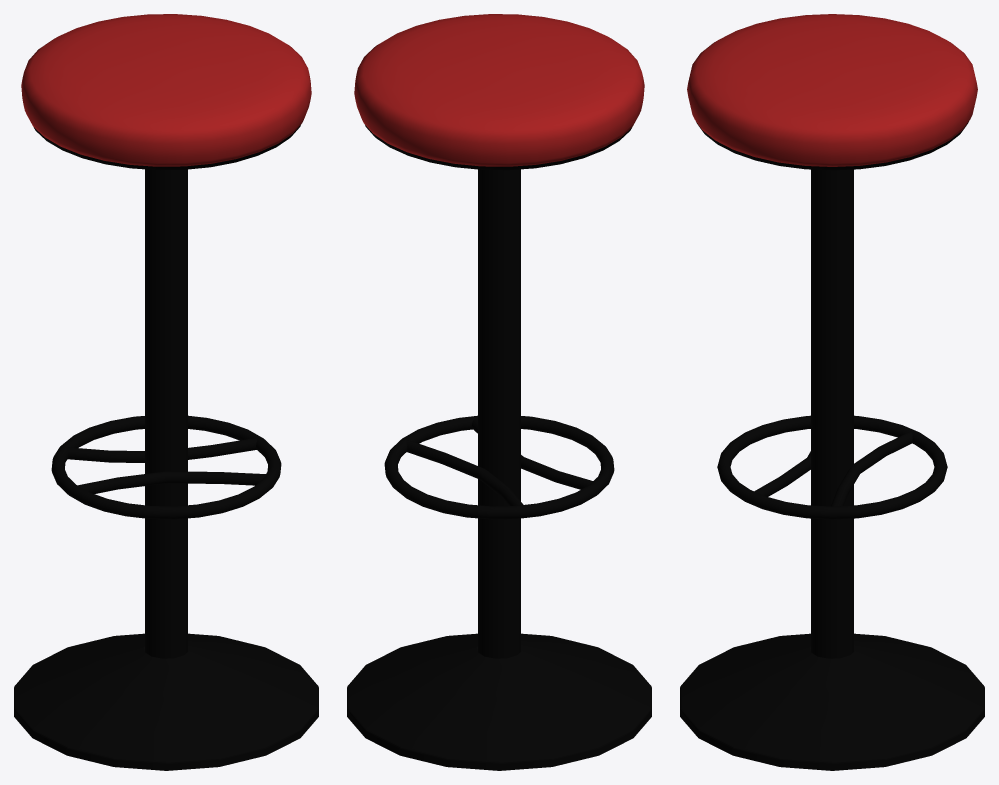
Rendered from Stool.fbx.
The picture shows the model from 3 angles, left to right: view 1: azimuth 30°, elevation 25°; view 2: azimuth 150°, elevation 25°; view 3: azimuth 270°, elevation 25°; orthographic projection.
Visible parts, largest first — view 1: ChamferCyl147, Cylinder685, Cylinder684, Circle013, Cylinder688, Cylinder686, bottom001; view 2: ChamferCyl147, Cylinder685, Cylinder684, Circle013, Cylinder686, bottom001, Cylinder688; view 3: ChamferCyl147, Cylinder685, Cylinder684, Circle013, Cylinder686, bottom001, Cylinder688.
Part boxes in pixels (bbox=[...]): ChamferCyl147: bbox=[21, 14, 311, 166]; Cylinder685: bbox=[14, 633, 318, 770]; Cylinder684: bbox=[145, 169, 187, 658]; Circle013: bbox=[51, 415, 281, 519]; Cylinder688: bbox=[77, 471, 267, 493]; Cylinder686: bbox=[66, 438, 257, 462]; bottom001: bbox=[33, 125, 300, 170]; ChamferCyl147: bbox=[354, 14, 644, 166]; Cylinder685: bbox=[347, 633, 651, 770]; Cylinder684: bbox=[478, 169, 520, 658]; Circle013: bbox=[384, 415, 614, 519]; Cylinder686: bbox=[406, 440, 523, 505]; bottom001: bbox=[365, 125, 632, 170]; Cylinder688: bbox=[471, 418, 593, 489]; ChamferCyl147: bbox=[687, 14, 977, 166]; Cylinder685: bbox=[680, 633, 984, 770]; Cylinder684: bbox=[811, 169, 853, 658]; Circle013: bbox=[717, 415, 947, 519]; Cylinder686: bbox=[831, 432, 912, 506]; bottom001: bbox=[696, 122, 968, 170]; Cylinder688: bbox=[754, 451, 810, 496].
Bounding box in the file's own units: 35.27 × 81.37 × 34.74.
